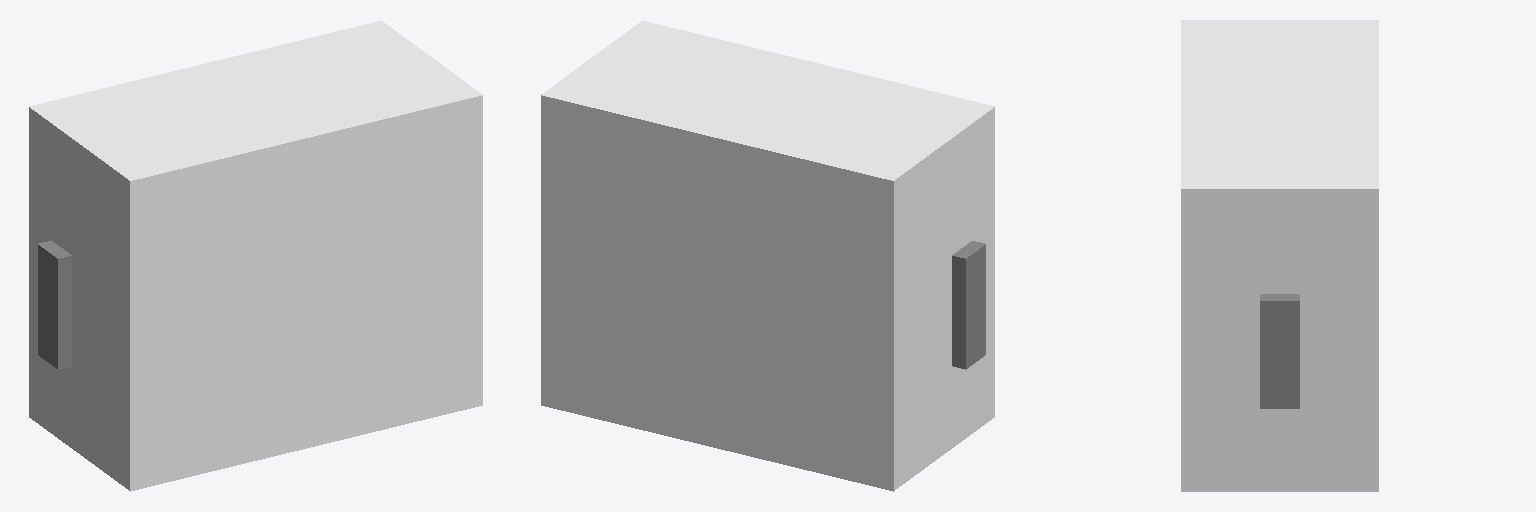
The robot description file, URDF, robot "cargo_bag":
<?xml version="1.0"?>

<!-- Rigid version of the cargo bag -->

<!-- All dimensions match the original deformable cargo bag (50 x 42 x 25 cm) -->
<!-- We connect the handle and the main compartment with a few "dummy" links/joints -->
<!--   to mimic how the deformable handle should behave -->
<!-- Three revolute joints allows us to mimic a ball joint while allowing us to set limits -->
<!--   on the motion for certain axes, and add friction -->

<!-- NOTE: to edit this file, ensure the following: -->
<!-- 1) Update the visual and collision dimensions together -->
<!-- 2) All dummy links should have the same properties (like inertia) -->
<!-- 3) If updating the mass, also update the inertia! However, in general, we should load this -->
<!--    into pybullet NOT using the USE_INERTIA_FROM_FILE flag since these values might be wrong -->

<!-- TODO: decide if there should be a prismatic link as well -->

<robot name="cargo_bag">
    <link name="main_compartment_link">
        <self_collide>false</self_collide>
        <visual name="main_compartment_visual">
            <origin rpy="0 0 0" xyz="0 0 0"/>
            <geometry>
                <box size="0.50 0.25 0.42"/>
            </geometry>
            <material name="bag_material">
                <!-- White -->
                <color rgba="1 1 1 1"/>
            </material>
        </visual>
        <!-- Split the collision body into 3 parts to allow for collision-free space around the handle -->
        <collision name="center_collision">
            <origin rpy="0 0 0" xyz="0 0 0"/>
            <geometry>
                <box size="0.38 0.25 0.20"/>
            </geometry>
        </collision>
        <collision name="top_collision">
            <origin rpy="0 0 0" xyz="0 0 0.155"/>
            <geometry>
                <box size="0.50 0.25 0.11"/>
            </geometry>
        </collision>
        <collision name="bottom_collision">
            <origin rpy="0 0 0" xyz="0 0 -0.155"/>
            <geometry>
                <box size="0.50 0.25 0.11"/>
            </geometry>
        </collision>
        <inertial>
            <origin rpy="0 0 0" xyz="0 0 0"/>
            <!-- Set the mass so that the whole bag has a total mass of 5kg -->
            <mass value="4.885"/>
            <inertia ixx="0.09725221" ixy="0" ixz="0" iyy="0.17358033" iyz="0" izz="0.12721354"/>
        </inertial>
    </link>

    <!-- First handle information -->

    <link name="handle_link">
        <self_collide>false</self_collide>
        <visual name="handle_visual">
            <origin rpy="0 0 0" xyz="0 0 0"/>
            <geometry>
                <box size="0.02 0.05 0.15"/>
            </geometry>
            <material name="handle_material">
                <!-- Gray -->
                <color rgba="0.6 0.6 0.6 1"/>
            </material>
        </visual>
        <collision name="handle_collision">
            <origin rpy="0 0 0" xyz="0 0 0"/>
            <geometry>
                <box size="0.02 0.05 0.05"/>
            </geometry>
        </collision>
        <inertial>
            <origin rpy="0 0 0" xyz="0 0 0"/>
            <mass value="0.1"/>
            <inertia ixx="2.08333e-4" ixy="0" ixz="0" iyy="1.90833e-4" iyz="0" izz="2.41667e-5"/>
        </inertial>
    </link>

    <joint name="pitch_joint" type="revolute">
        <parent link="main_compartment_link"/>
        <child link="pitch_link"/>
        <axis xyz="0 1 0" />
        <!-- Origin specifies the ball joint location -->
        <origin rpy="0 0 0" xyz="0.25 0 0"/>
        <limit effort="1.0" lower="-1.57079" upper="1.57079" velocity="1.0"/>
    </joint>

    <link name="pitch_link">
        <!-- Small dummy mass/inertia values so this link is not ignored -->
        <inertial>
            <mass value="0.005" />
            <inertia ixx="5.0e-5" ixy="0" ixz="0" iyy="5.0e-5" iyz="0" izz="5.0e-5" />
        </inertial>
    </link>

    <joint name="yaw_joint" type="revolute">
        <parent link="pitch_link"/>
        <child link="yaw_link"/>
        <axis xyz="0 0 1" />
        <limit effort="1.0" lower="-1.57079" upper="1.57079" velocity="1.0"/>
    </joint>

    <link name="yaw_link">
        <!-- Small dummy mass/inertia values so this link is not ignored -->
        <inertial>
            <mass value="0.005" />
            <inertia ixx="5.0e-5" ixy="0" ixz="0" iyy="5.0e-5" iyz="0" izz="5.0e-5" />
        </inertial>
    </link>

    <joint name="roll_joint" type="revolute">
        <parent link="yaw_link"/>
        <child link="roll_link"/>
        <axis xyz="1 0 0" />
        <limit effort="1.0" lower="-1.57079" upper="1.57079" velocity="1.0"/>
    </joint>

    <link name="roll_link">
        <!-- Small dummy mass/inertia values so this link is not ignored -->
        <inertial>
            <mass value="0.005" />
            <inertia ixx="5.0e-5" ixy="0" ixz="0" iyy="5.0e-5" iyz="0" izz="5.0e-5" />
        </inertial>
    </link>

    <joint name="handle_joint" type="fixed">
        <!-- Origin specifies the handle's offset from ball joint location -->
        <!-- Orientation dictates how the Astrobee grasps the handle -->
        <origin rpy="0 0 0" xyz="0.035 0 0" />
        <parent link="roll_link"/>
        <child link="handle_link"/>
    </joint>

    <!-- Second handle information -->

    <link name="handle_link_2">
        <self_collide>false</self_collide>
        <visual name="handle_visual_2">
            <origin rpy="0 0 0" xyz="0 0 0"/>
            <geometry>
                <box size="0.02 0.05 0.15"/>
            </geometry>
            <material name="handle_material">
                <!-- Gray -->
                <color rgba="0.6 0.6 0.6 1"/>
            </material>
        </visual>
        <collision name="handle_collision_2">
            <origin rpy="0 0 0" xyz="0 0 0"/>
            <geometry>
                <box size="0.02 0.05 0.05"/>
            </geometry>
        </collision>
        <inertial>
            <origin rpy="0 0 0" xyz="0 0 0"/>
            <mass value="0.1"/>
            <inertia ixx="2.08333e-4" ixy="0" ixz="0" iyy="1.90833e-4" iyz="0" izz="2.41667e-5"/>
        </inertial>
    </link>

    <joint name="pitch_joint_2" type="revolute">
        <parent link="main_compartment_link"/>
        <child link="pitch_link_2"/>
        <axis xyz="0 1 0" />
        <!-- Origin specifies the ball joint location -->
        <origin rpy="0 0 0" xyz="-0.25 0 0"/>
        <limit effort="1.0" lower="-1.57079" upper="1.57079" velocity="1.0"/>
    </joint>

    <link name="pitch_link_2">
        <!-- Small dummy mass/inertia values so this link is not ignored -->
        <inertial>
            <mass value="0.005" />
            <inertia ixx="5.0e-5" ixy="0" ixz="0" iyy="5.0e-5" iyz="0" izz="5.0e-5" />
        </inertial>
    </link>

    <joint name="yaw_joint_2" type="revolute">
        <parent link="pitch_link_2"/>
        <child link="yaw_link_2"/>
        <axis xyz="0 0 1" />
        <limit effort="1.0" lower="-1.57079" upper="1.57079" velocity="1.0"/>
    </joint>

    <link name="yaw_link_2">
        <!-- Small dummy mass/inertia values so this link is not ignored -->
        <inertial>
            <mass value="0.005" />
            <inertia ixx="5.0e-5" ixy="0" ixz="0" iyy="5.0e-5" iyz="0" izz="5.0e-5" />
        </inertial>
    </link>

    <joint name="roll_joint_2" type="revolute">
        <parent link="yaw_link_2"/>
        <child link="roll_link_2"/>
        <axis xyz="1 0 0" />
        <limit effort="1.0" lower="-1.57079" upper="1.57079" velocity="1.0"/>
    </joint>

    <link name="roll_link_2">
        <!-- Small dummy mass/inertia values so this link is not ignored -->
        <inertial>
            <mass value="0.005" />
            <inertia ixx="5.0e-5" ixy="0" ixz="0" iyy="5.0e-5" iyz="0" izz="5.0e-5" />
        </inertial>
    </link>

    <joint name="handle_joint_2" type="fixed">
        <!-- Origin specifies the handle's offset from ball joint location -->
        <!-- Orientation dictates how the Astrobee grasps the handle -->
        <origin rpy="0 0 3.14159" xyz="-0.035 0 0" />
        <parent link="roll_link_2"/>
        <child link="handle_link_2"/>
    </joint>


</robot>

--- Render facts (derived) ---
Views: 3 orthographic renders of the robot side by side, from view 1: azimuth 30°, elevation 25°; view 2: azimuth 150°, elevation 25°; view 3: azimuth 270°, elevation 25°.
Robot: cargo_bag — 9 links, 8 joints (6 revolute, 2 fixed); root link main_compartment_link; default pose: all joints at 0.
Visible links, largest first — view 1: main_compartment_link, handle_link_2; view 2: main_compartment_link, handle_link_2; view 3: main_compartment_link, handle_link.
Boxes of the visible links, left/top/right/bottom form: main_compartment_link: left=29, top=20, right=482, bottom=491; handle_link_2: left=38, top=241, right=71, bottom=369; main_compartment_link: left=541, top=20, right=994, bottom=491; handle_link_2: left=952, top=241, right=985, bottom=369; main_compartment_link: left=1181, top=20, right=1378, bottom=491; handle_link: left=1260, top=294, right=1299, bottom=408.
Size in the robot's own frame: 0.59 by 0.25 by 0.42 metres.
Geometry: primitives only (box / cylinder / sphere), no mesh files.